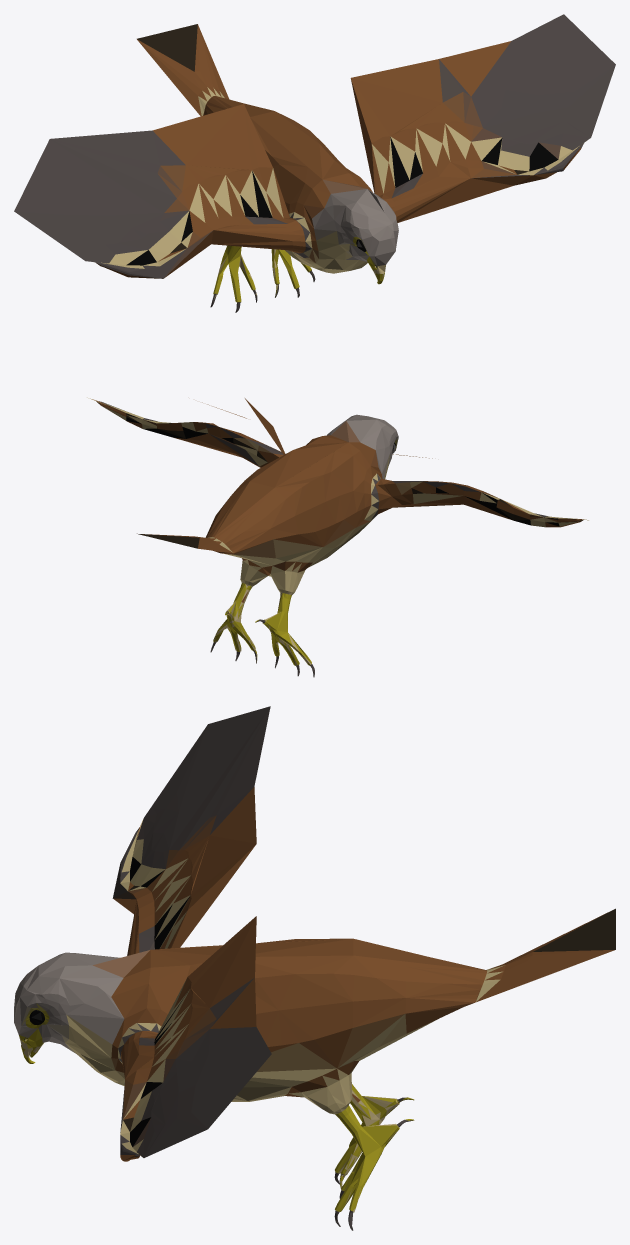
File: hawk.glb
3 renders of one model, top to bottom at view 1: azimuth 30°, elevation 25°; view 2: azimuth 150°, elevation 25°; view 3: azimuth 270°, elevation 25°, orthographic. The views are drawn at different scales.
Parts seen in each view (by area): view 1: hawk; view 2: hawk; view 3: hawk.
Part boxes in pixels (x1,y1,x2,y2): hawk: [14, 14, 615, 312]; hawk: [87, 397, 588, 677]; hawk: [14, 706, 615, 1230].
Size of the model in its own units: 4.76 by 1.84 by 2.99.
